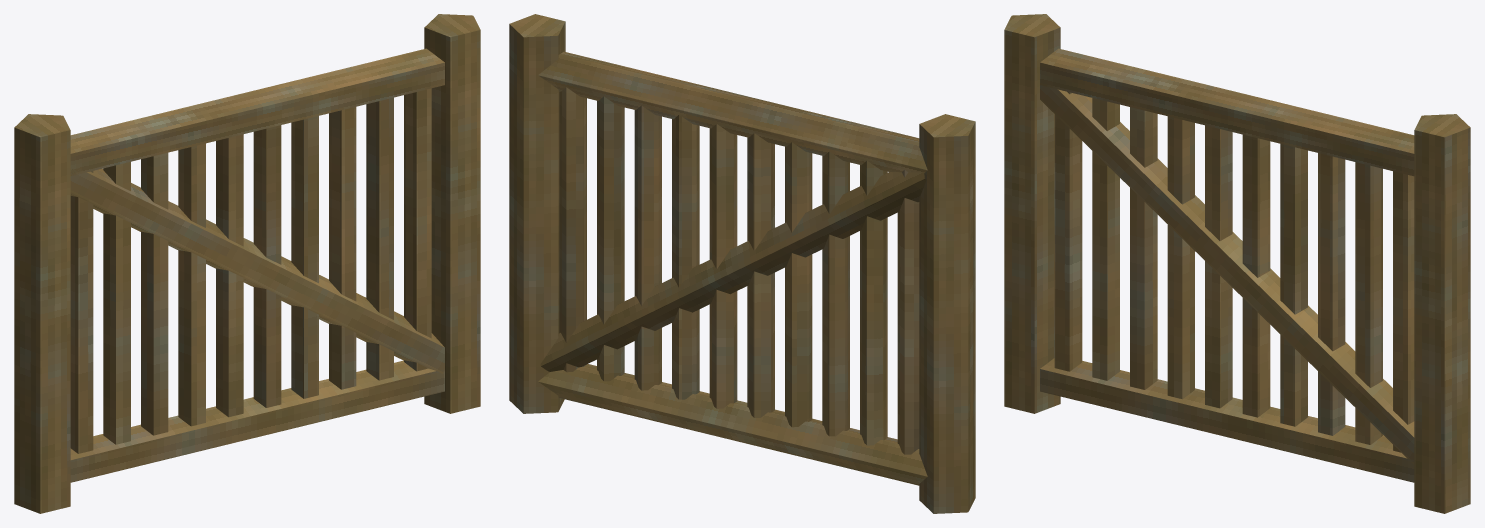
Rendered from gate.fbx.
3 renders of one model, left to right at view 1: azimuth 30°, elevation 25°; view 2: azimuth 150°, elevation 25°; view 3: azimuth 330°, elevation 25°, orthographic.
Visible parts, largest first — view 1: hut.001; view 2: hut.001; view 3: hut.001.
Boxes of the visible parts, x1,y1,x2,y2 form: hut.001: [14, 14, 480, 513]; hut.001: [509, 14, 975, 513]; hut.001: [1004, 14, 1470, 513].
Size of the model in its own units: 920 by 722 by 93.25.
